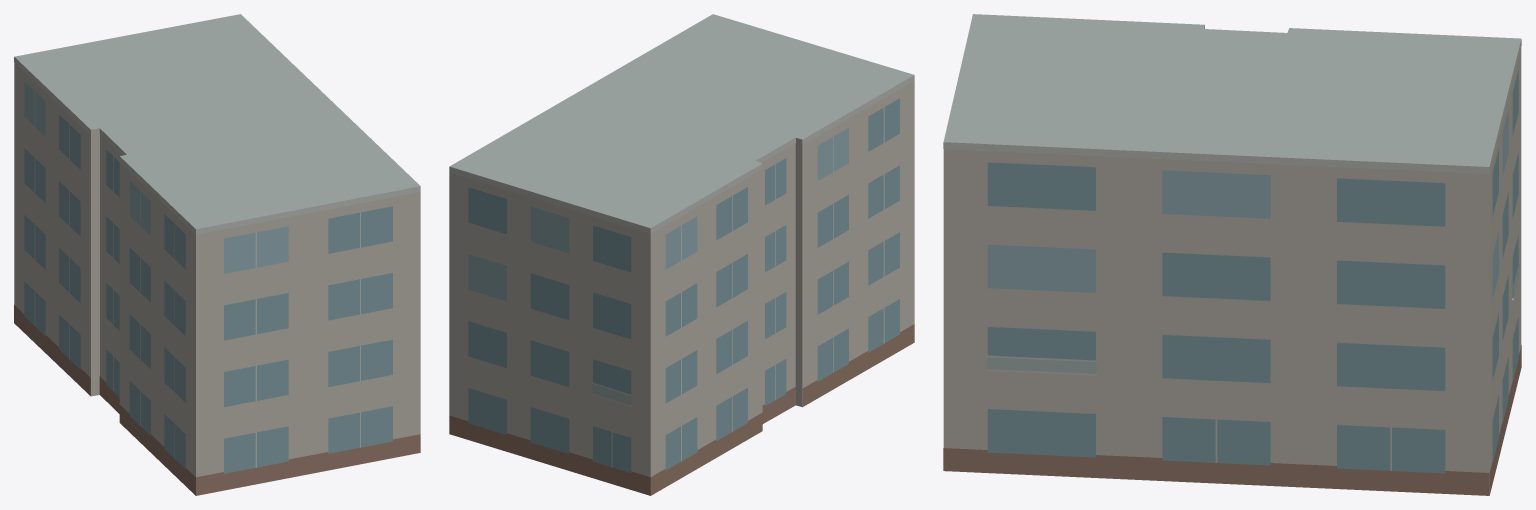
The model's file is survey-upis-32679563.glb.
3 views of the same model, side by side, from view 1: azimuth 30°, elevation 25°; view 2: azimuth 150°, elevation 25°; view 3: azimuth 270°, elevation 25° (orthographic). The views are drawn at different scales.
Parts seen in each view (by area): view 1: survey-upis-32679563.tmp; view 2: survey-upis-32679563.tmp; view 3: survey-upis-32679563.tmp.
Boxes of the visible parts, x1,y1,x2,y2 form: survey-upis-32679563.tmp: (14,14,420,495); survey-upis-32679563.tmp: (449,14,914,495); survey-upis-32679563.tmp: (943,14,1521,495).
Size of the model in its own units: 11.51 by 11.53 by 18.38.
